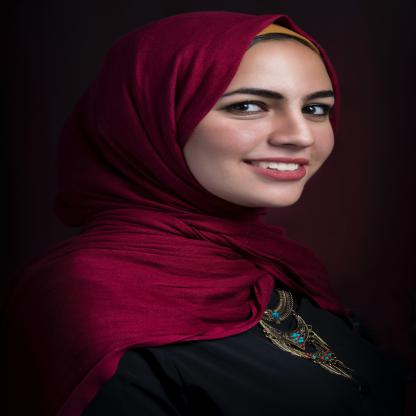Eye: (217, 101, 273, 119), (302, 103, 331, 123)
Mouth: (238, 156, 310, 181)
Nose: (267, 106, 316, 148)
